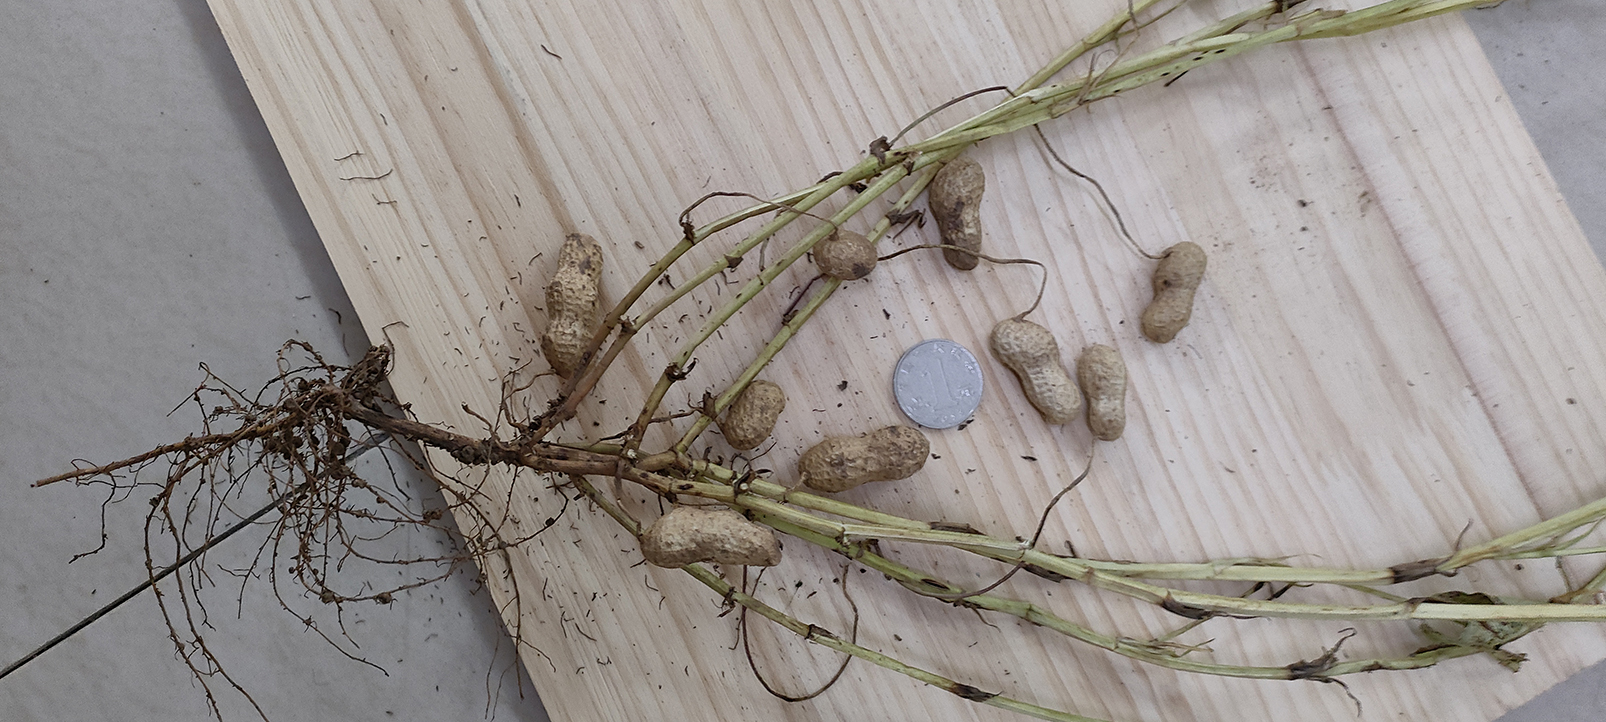h: (640, 503, 785, 569), (991, 318, 1082, 423), (543, 232, 604, 377), (798, 425, 929, 493), (1142, 241, 1208, 342), (1077, 341, 1128, 439), (724, 381, 786, 450), (814, 229, 877, 280)
l: (929, 159, 986, 271)
